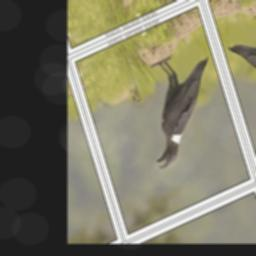Crow: (127, 39, 234, 172)
